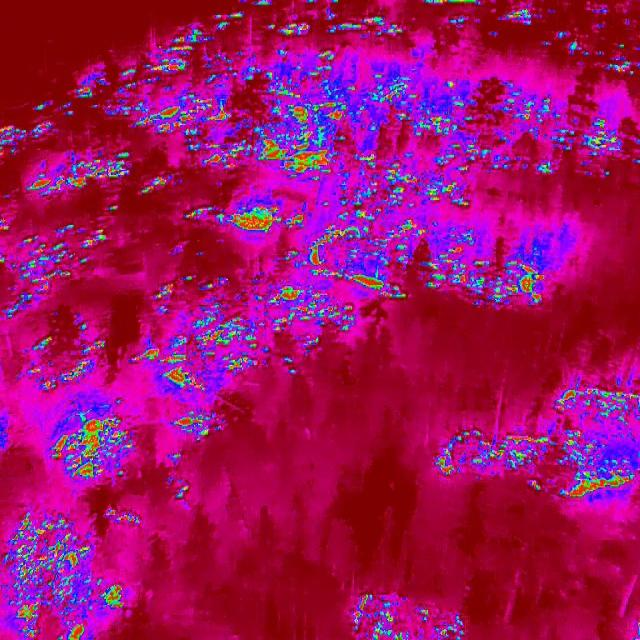fire: (130, 270, 358, 399), (75, 29, 248, 148), (424, 420, 637, 496), (290, 204, 430, 300), (202, 100, 354, 186), (0, 202, 121, 302), (4, 512, 94, 640), (420, 232, 550, 310), (452, 92, 562, 176), (15, 320, 119, 394), (244, 0, 402, 46), (552, 432, 640, 514), (52, 409, 134, 487), (339, 596, 468, 640), (188, 194, 305, 240), (387, 155, 472, 217), (27, 150, 132, 198), (552, 373, 640, 425), (380, 78, 455, 138), (554, 30, 637, 76), (243, 62, 310, 99), (578, 123, 624, 175), (170, 406, 230, 443), (0, 122, 57, 152), (97, 576, 131, 616), (140, 172, 182, 200), (168, 452, 190, 501), (104, 504, 144, 530), (499, 8, 536, 28), (33, 100, 74, 118), (442, 13, 476, 29), (318, 50, 335, 60)
